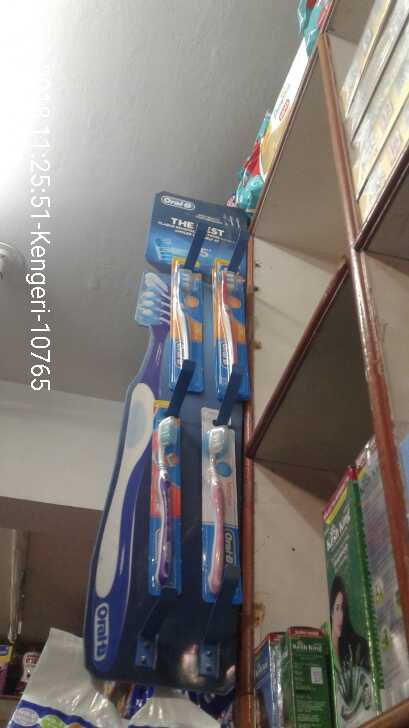oralb: (202, 419, 240, 594), (147, 408, 179, 596), (209, 267, 246, 395), (170, 264, 206, 392)
